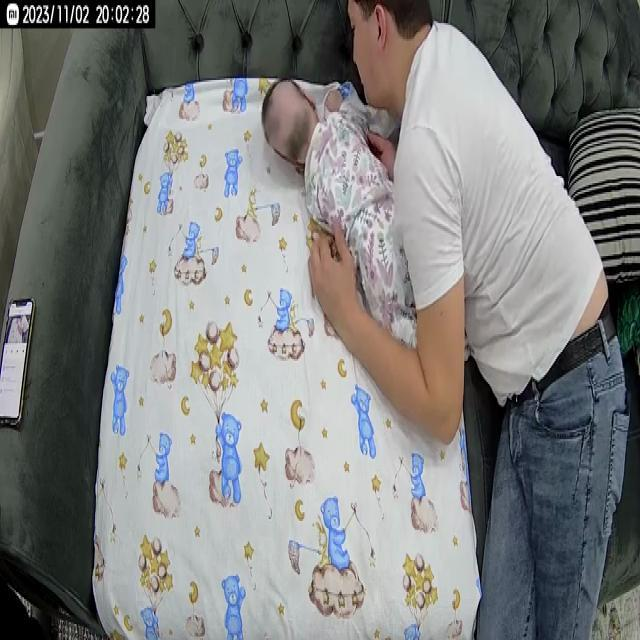baby: (259, 76, 416, 352)
